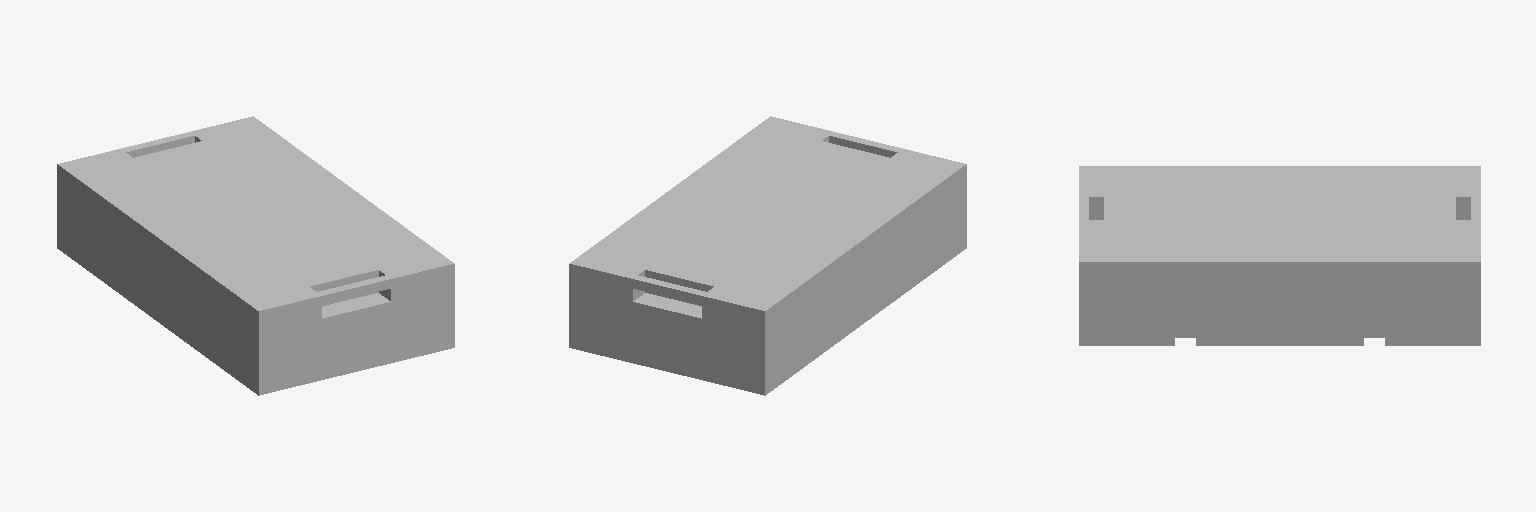
The model's file is battery_s_original.obj.
3 renders of one model, left to right at view 1: azimuth 30°, elevation 25°; view 2: azimuth 150°, elevation 25°; view 3: azimuth 270°, elevation 25°, orthographic.
Visible parts, largest first — view 1: battery_s; view 2: battery_s; view 3: battery_s.
Boxes of the visible parts, x1=… form: battery_s: x1=57, y1=116, x2=454, y2=395; battery_s: x1=569, y1=116, x2=966, y2=395; battery_s: x1=1079, y1=166, x2=1480, y2=345.
Bounding box in the file's own units: 0.54 × 0.222 × 0.96.